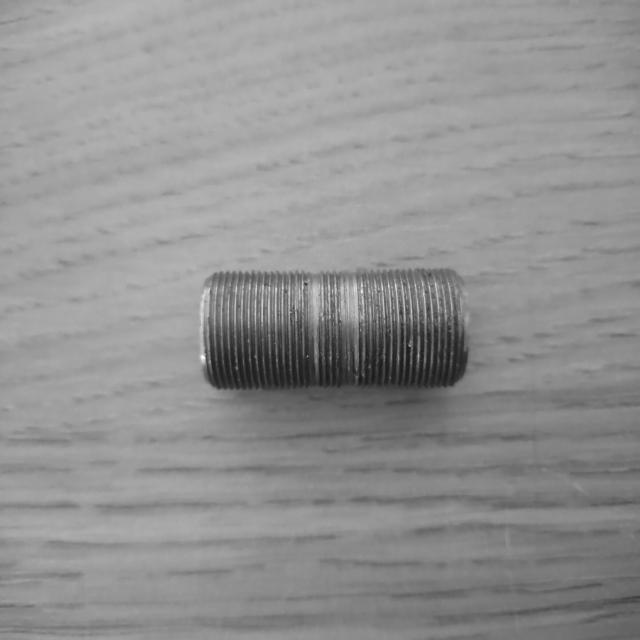Broken: (199, 266, 470, 392)
